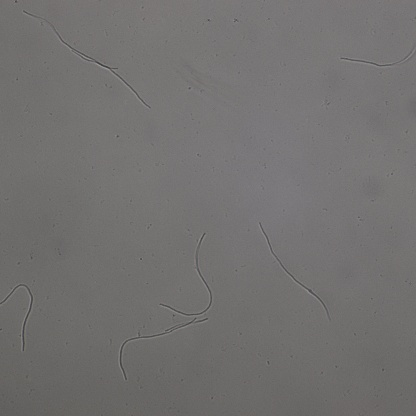Sensitive: (258, 221, 331, 320), (24, 10, 119, 70), (119, 318, 208, 381), (159, 232, 211, 316), (73, 52, 151, 106), (1, 284, 33, 351), (340, 43, 416, 67)
